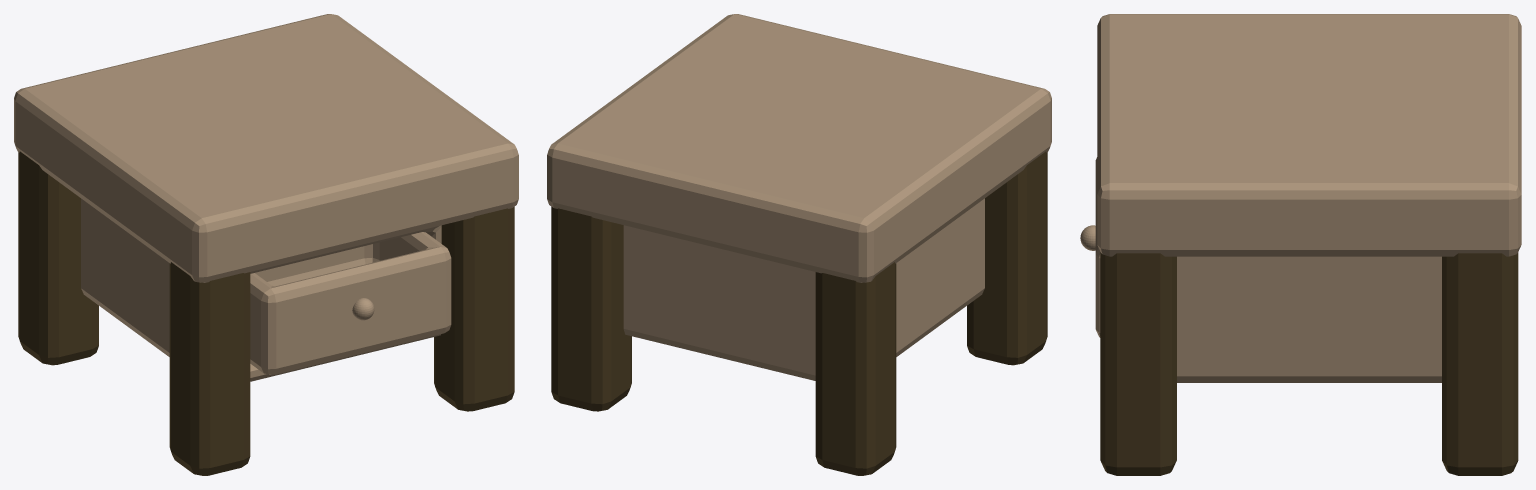
The model's file is Side Table.fbx.
The picture shows the model from 3 angles, left to right: view 1: azimuth 30°, elevation 25°; view 2: azimuth 150°, elevation 25°; view 3: azimuth 270°, elevation 25°; orthographic projection. The views are drawn at different scales.
Visible parts, largest first — view 1: Sede Table; view 2: Sede Table; view 3: Sede Table.
Boxes of the visible parts, x1,y1,x2,y2 form: Sede Table: (14,14,518,475); Sede Table: (547,14,1051,475); Sede Table: (1080,14,1521,475).
Size of the model in its own units: 52.85 by 40.5 by 54.94.
